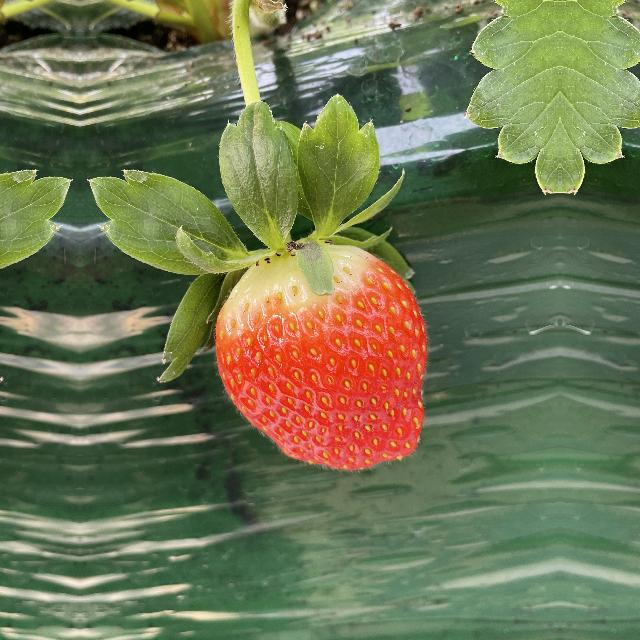Health_100: (208, 242, 438, 470)
